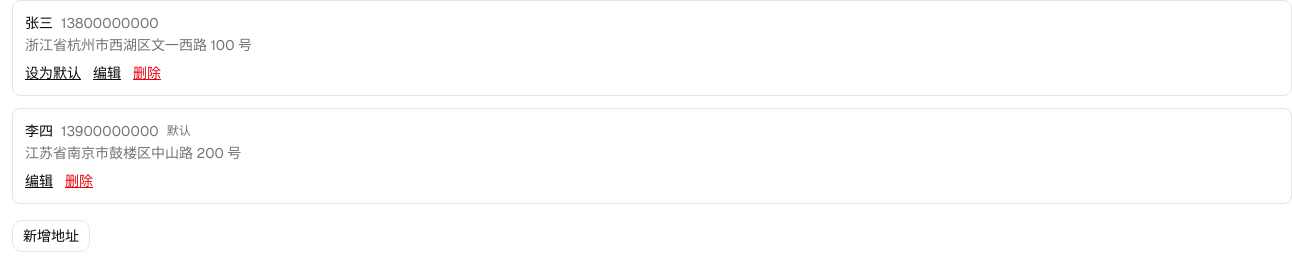
Test case: 地址簿 › 删除成功后列表里移除该项
Expected: the text "张三" is shown, [25,13,53,33]
Click the button with aria-label "删除 张三 的地址" at (147, 73), box [133,63,161,83]
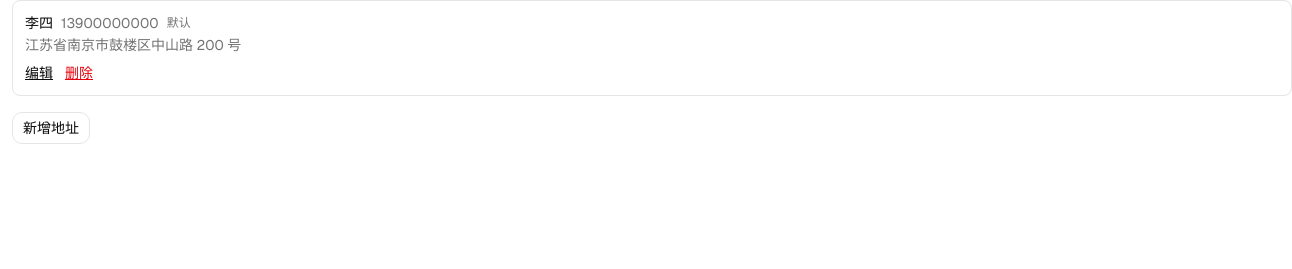
Expected: the text "李四" is shown, [25,13,53,33]
Now the text "张三" is gone
